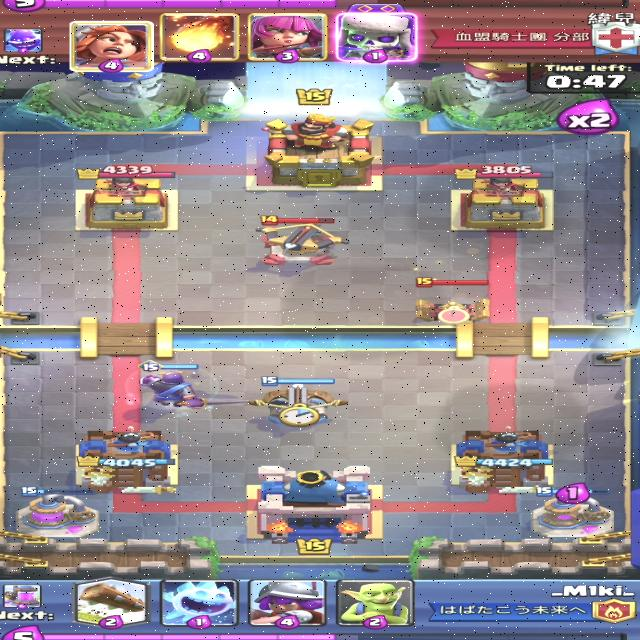Enemy-Tesla: (416, 276, 488, 324)
Enemy-XBow: (251, 215, 350, 266)
Player-ElixirPump: (529, 486, 618, 539), (15, 486, 101, 540)
Player-Knight-Evo: (133, 359, 250, 410)
Player-XBow: (246, 376, 352, 428)
